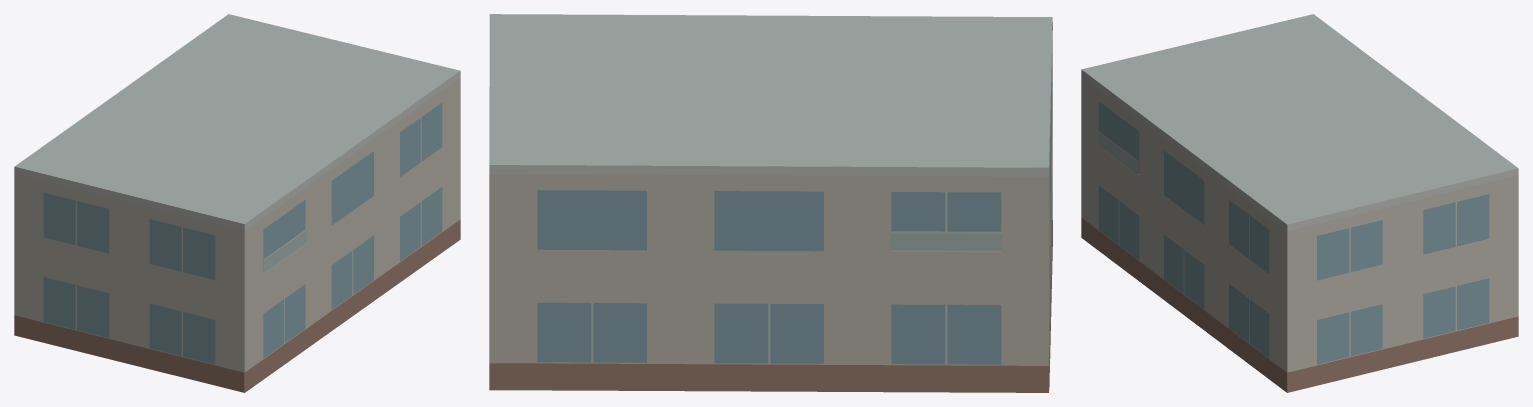
File: survey-upis-32713693.glb
3 views of the same model, side by side, from view 1: azimuth 30°, elevation 25°; view 2: azimuth 150°, elevation 25°; view 3: azimuth 270°, elevation 25° (orthographic). The views are drawn at different scales.
Parts seen in each view (by area): view 1: survey-upis-32713693.tmp; view 2: survey-upis-32713693.tmp; view 3: survey-upis-32713693.tmp.
Part boxes in pixels (box(x1,y1,x2,y2)): survey-upis-32713693.tmp: box(14, 14, 460, 392); survey-upis-32713693.tmp: box(489, 14, 1052, 392); survey-upis-32713693.tmp: box(1081, 14, 1518, 392).
Bounding box in the file's own units: 16.38 × 6.1 × 14.37.
